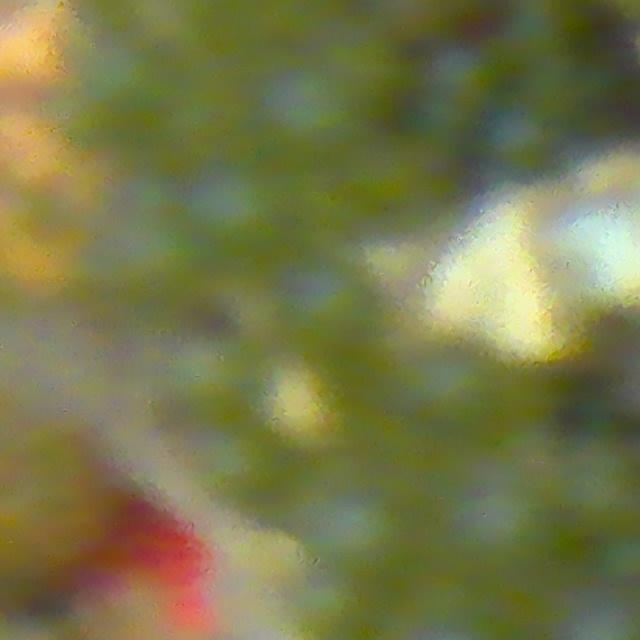SeaGrape: (296, 476, 407, 579), (72, 220, 187, 311), (193, 166, 296, 263), (393, 344, 498, 433), (458, 487, 550, 582), (271, 60, 366, 152), (347, 136, 439, 222), (164, 329, 254, 415), (288, 261, 374, 350), (197, 421, 282, 507), (99, 53, 177, 139), (566, 439, 640, 525), (299, 571, 368, 640)
